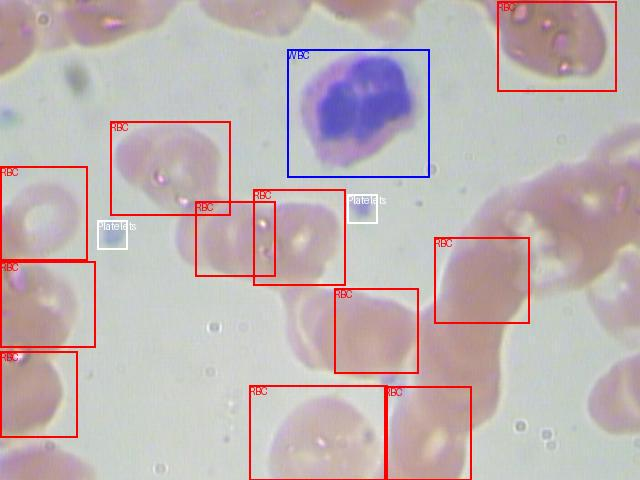Platelets: (347, 194, 377, 223), (97, 220, 127, 249)
RBC: (249, 385, 387, 480), (110, 121, 230, 215), (497, 1, 616, 91), (253, 189, 345, 285), (0, 166, 87, 260), (384, 386, 471, 480), (434, 237, 529, 323), (0, 261, 95, 347), (334, 288, 418, 373), (0, 351, 77, 437), (195, 201, 275, 276)
WBC: (287, 49, 429, 177)
